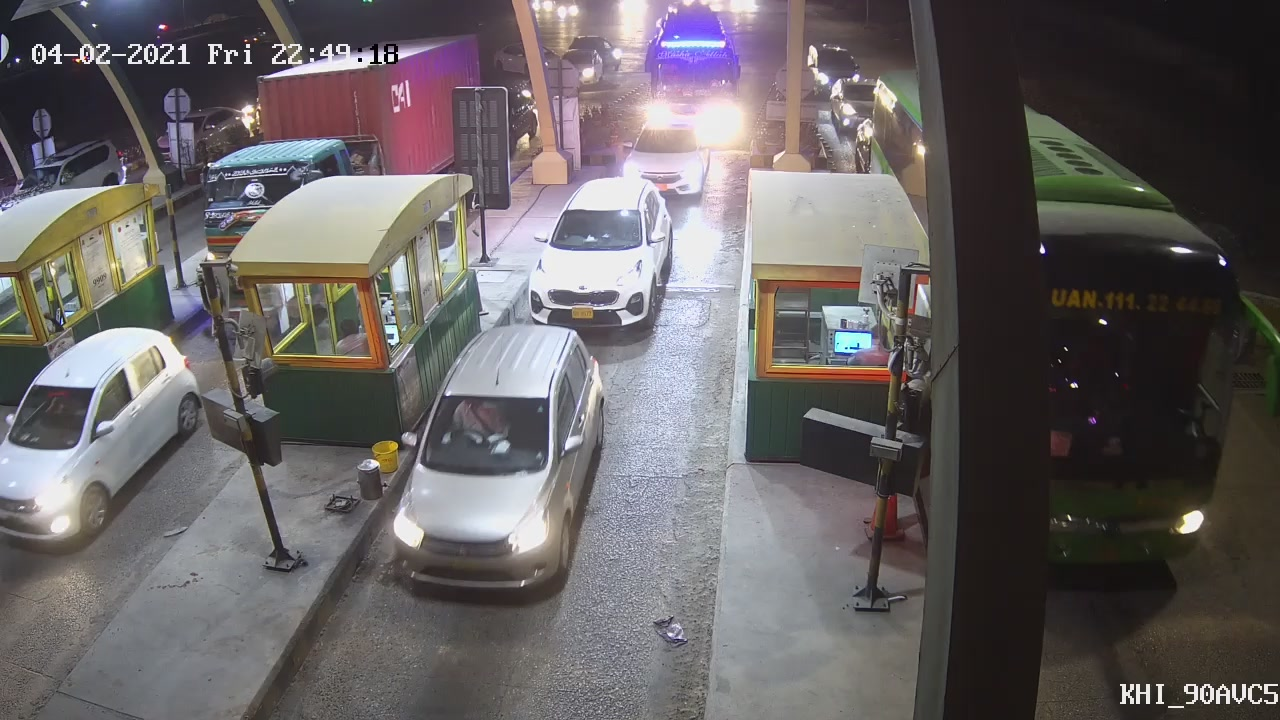F1: (388, 324, 605, 594), (516, 173, 680, 345)
